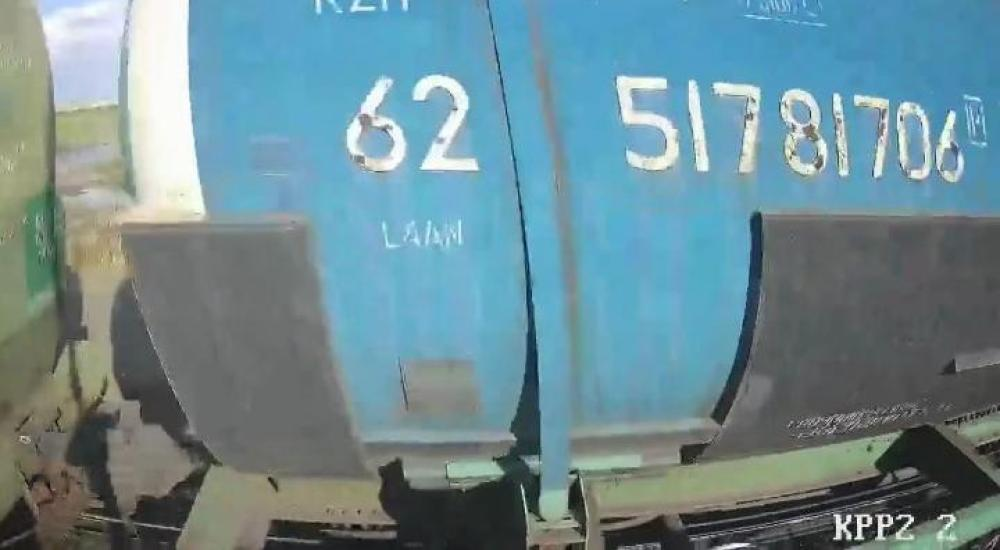Wagon-number: (608, 69, 968, 196)
